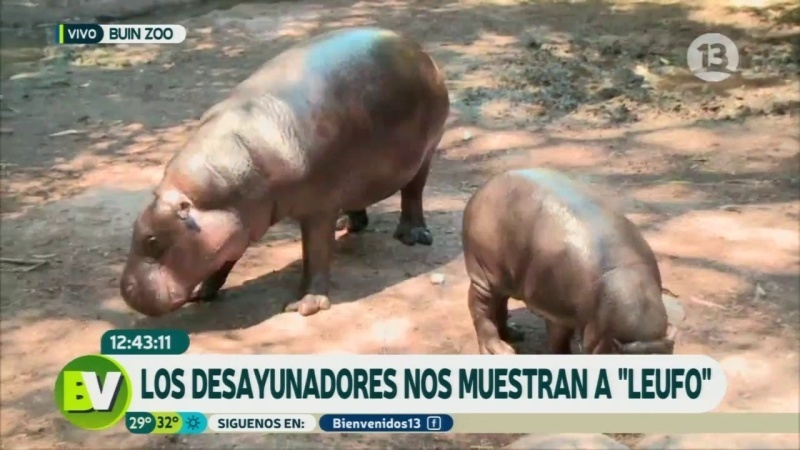hipopotamo: (114, 23, 456, 327), (444, 150, 698, 356)
